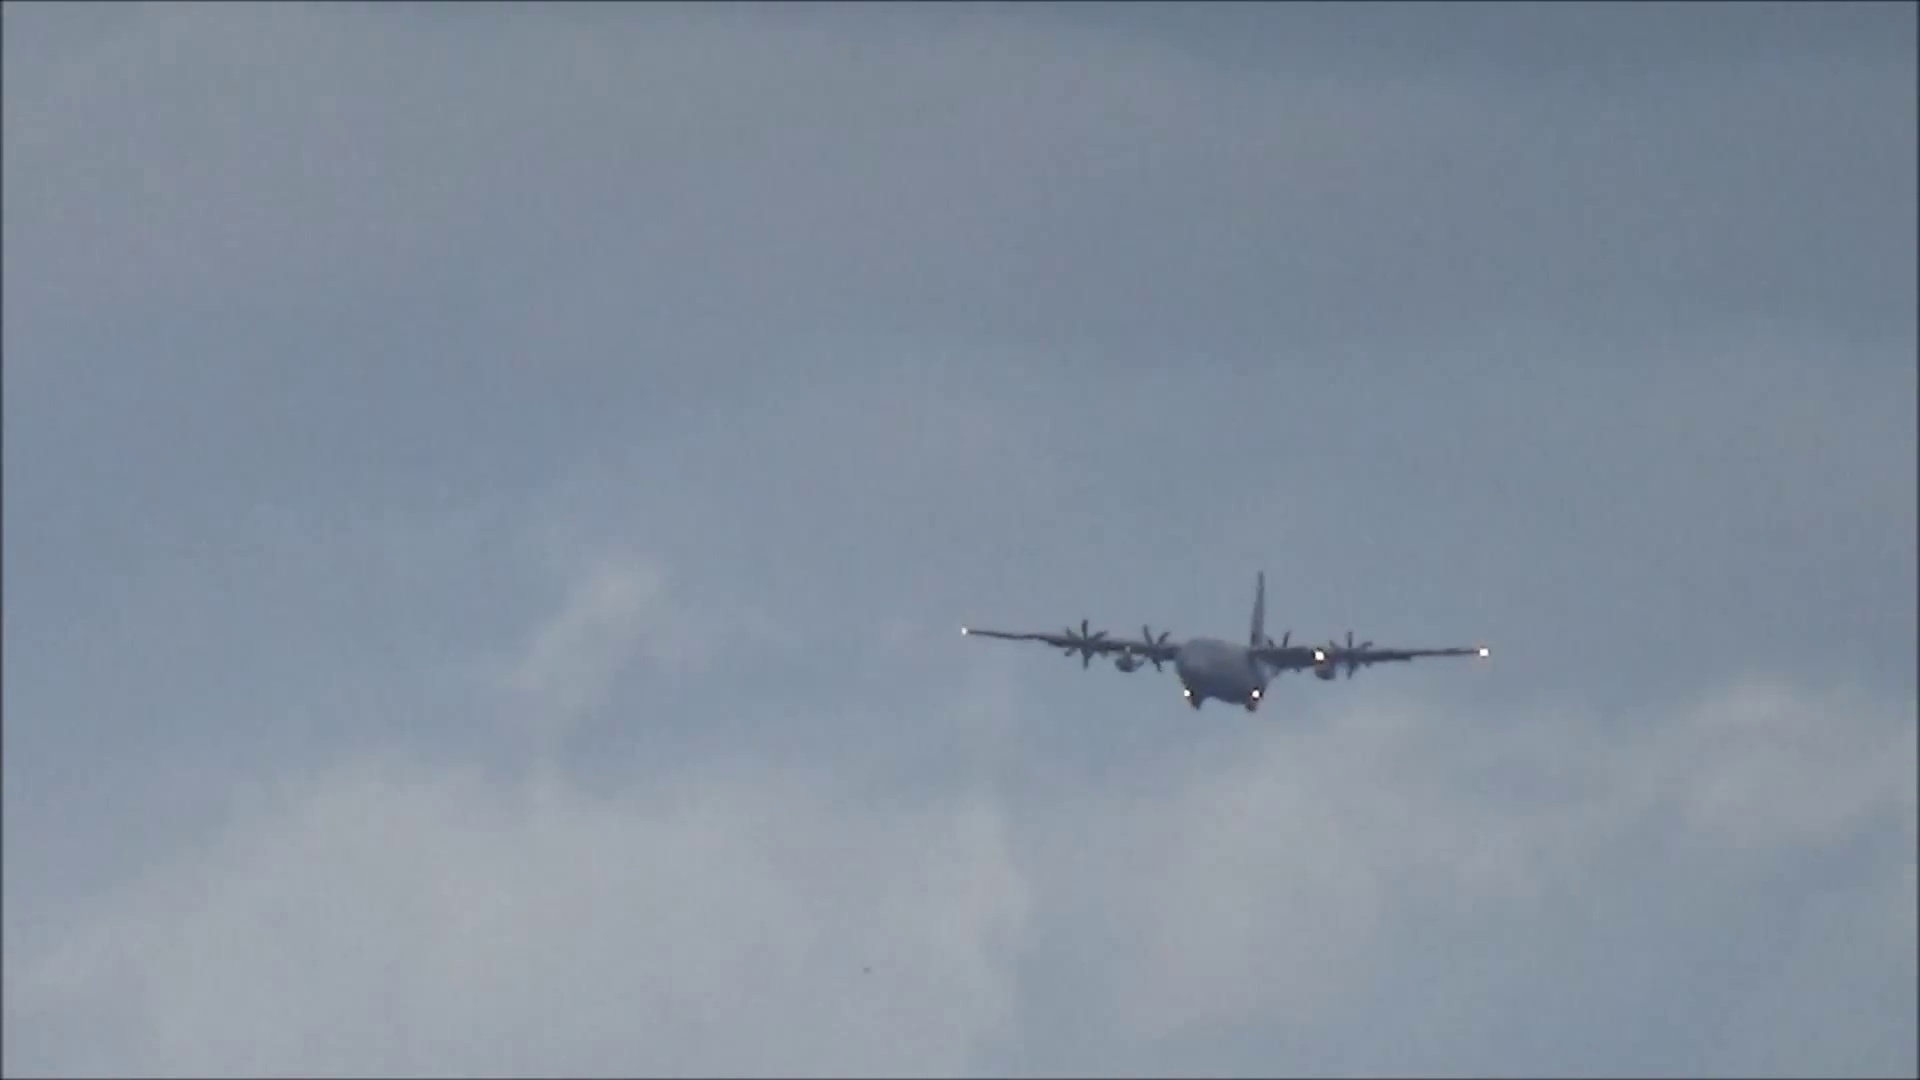Airplane: (964, 568, 1501, 715)
